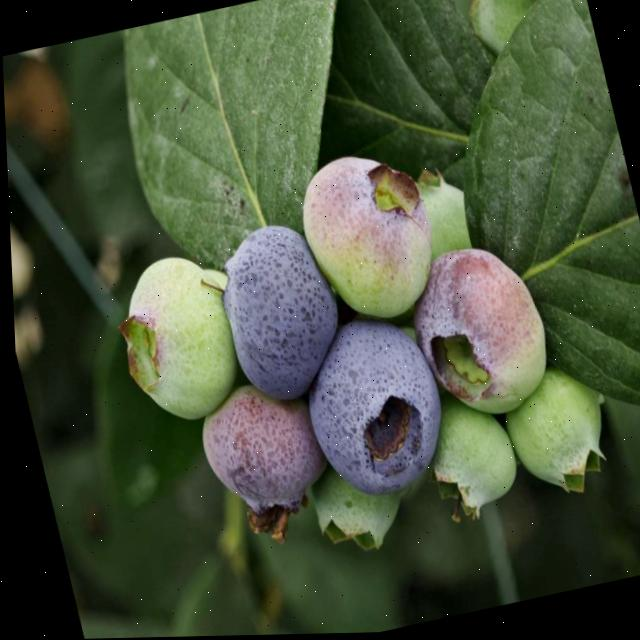RipeBlueBerry: (288, 305, 459, 510), (205, 215, 352, 411)
Semi-RipeBlueBerry: (396, 233, 560, 430), (290, 141, 449, 334), (187, 374, 337, 542)
UnripeBlueBerry: (101, 245, 248, 434), (488, 358, 614, 496), (414, 397, 523, 525)
